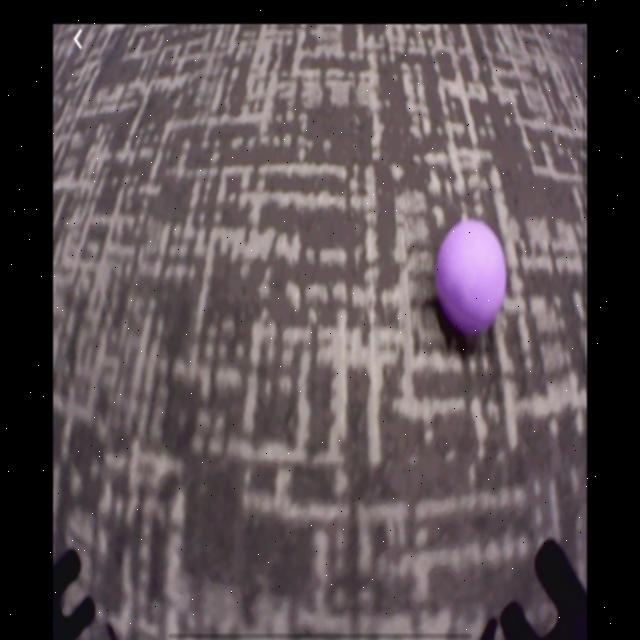ball: (437, 221, 508, 337)
